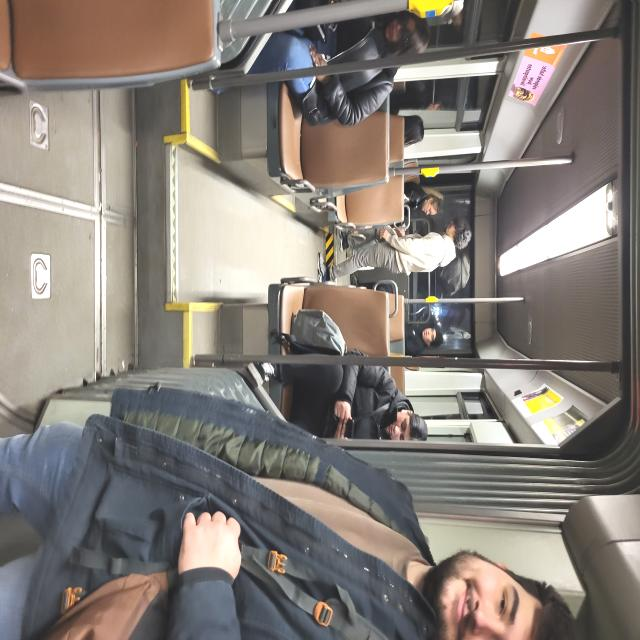asiento-libre: (221, 334, 304, 488), (371, 333, 428, 487), (161, 560, 226, 640), (291, 315, 332, 410), (381, 314, 417, 336)
